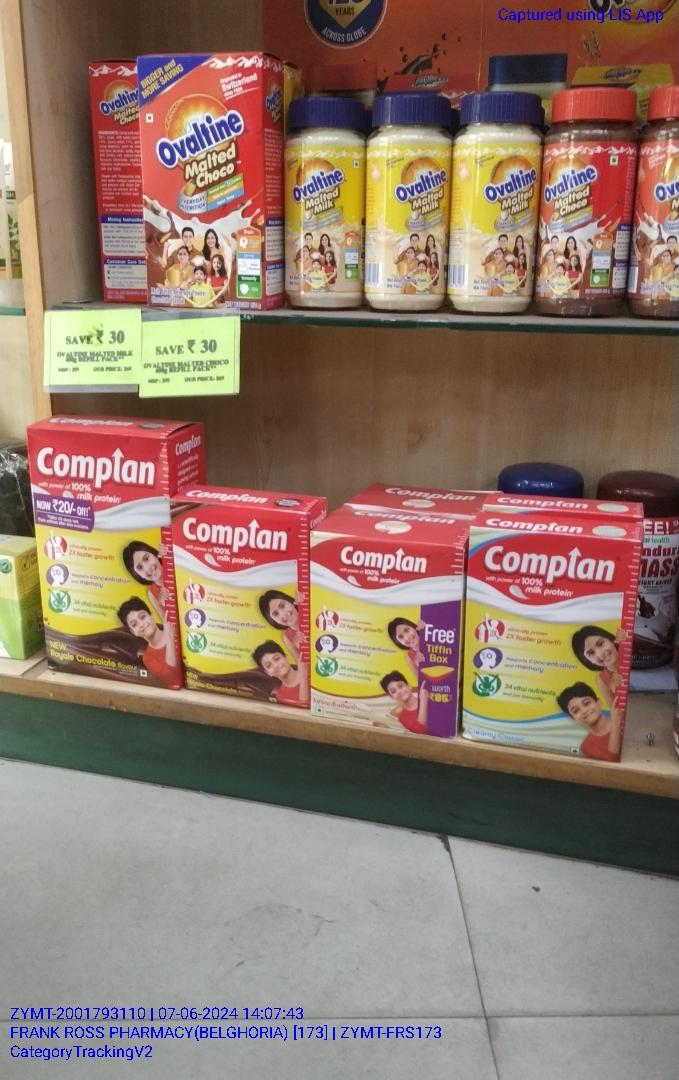COMPLAN_CHOCOLATE_500_GMS_PACK: (180, 499, 304, 698)
COMPLAN_CREAMY_CLASSIC_500_G_PACK: (464, 524, 623, 759)
COMPLAN_KESAR_BADAM_500_GMS_PACK: (307, 529, 458, 735)
